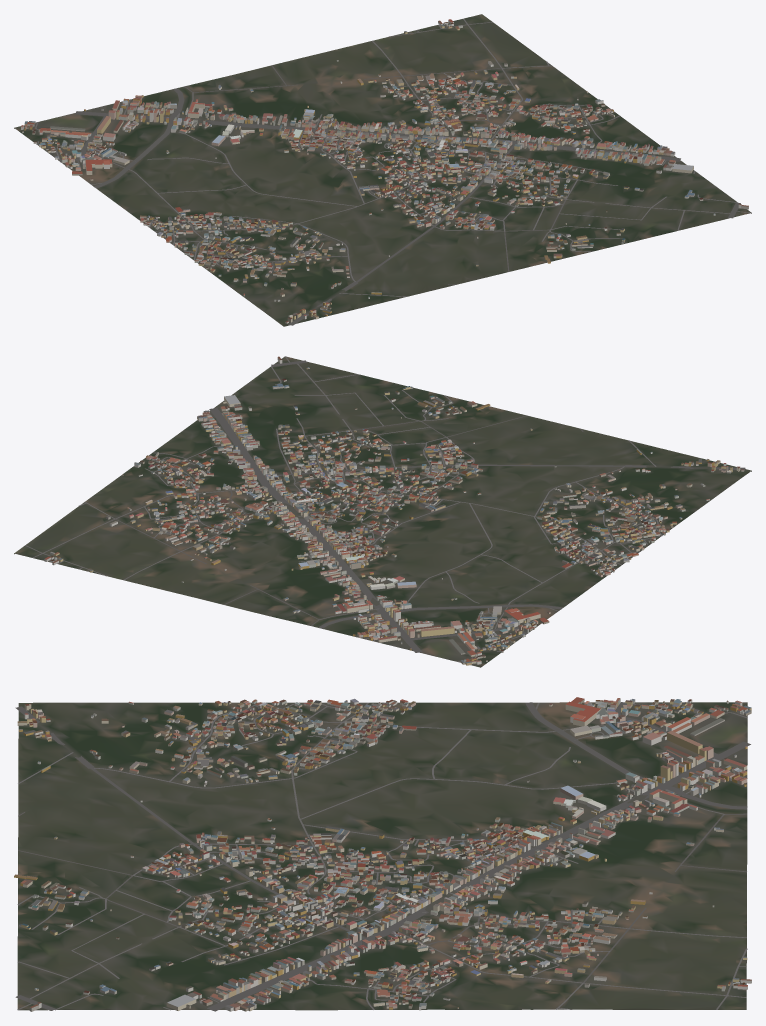
3 renders of one model, top to bottom at view 1: azimuth 30°, elevation 25°; view 2: azimuth 150°, elevation 25°; view 3: azimuth 270°, elevation 25°, orthographic. The views are drawn at different scales.
Visible parts, largest first — view 1: ground, buildings, roads; view 2: ground, buildings, roads; view 3: ground, buildings, roads.
Boxes of the visible parts, x1,y1,x2,y2 form: ground: (14,14,751,326); buildings: (21,19,748,323); roads: (35,18,751,325); ground: (14,356,751,667); buildings: (44,356,744,665); roads: (25,356,745,661); ground: (17,702,747,1010); buildings: (14,697,751,1011); roads: (15,702,750,1011).
Bounding box in the file's own units: 1420 × 31.65 × 1419.
